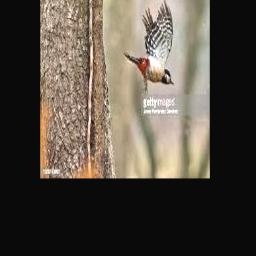Woodpecker: (124, 0, 174, 92)
